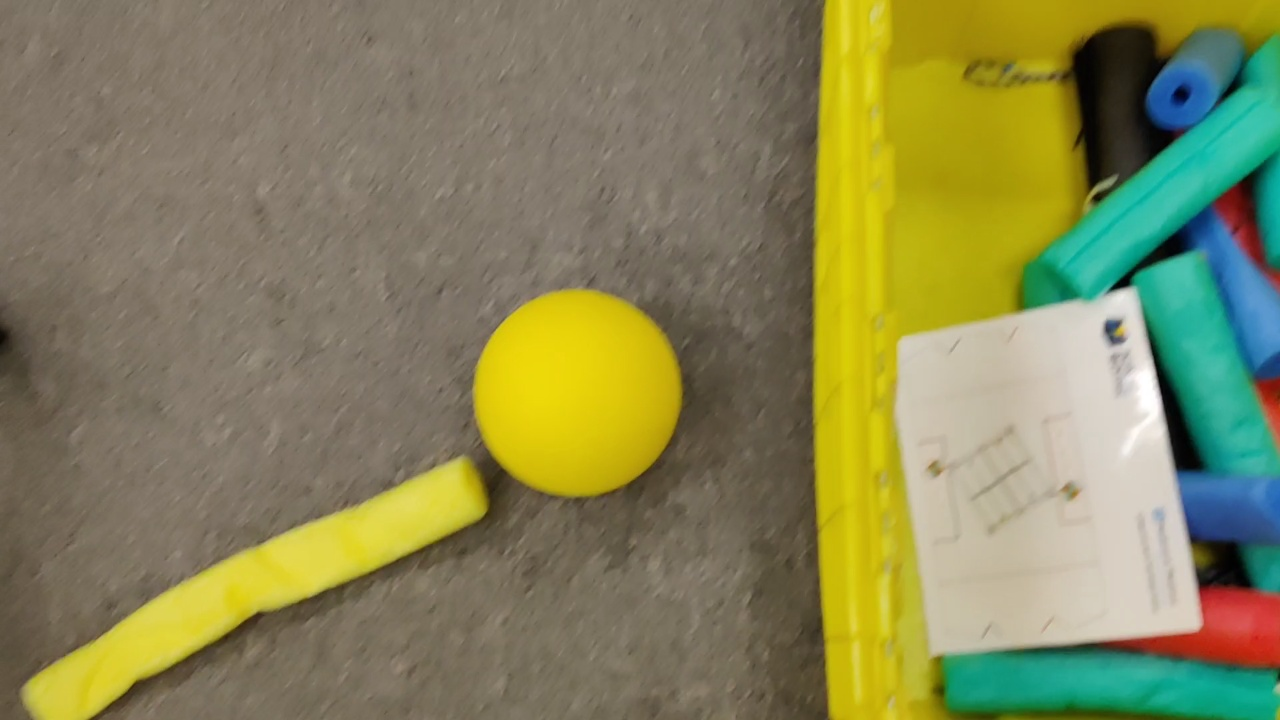Ball: (475, 287, 677, 496)
